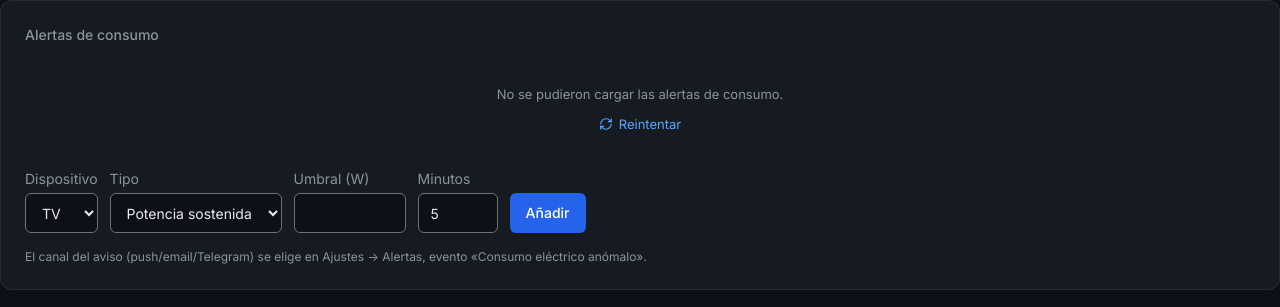
Test: EnergyAlertsCard (US-183) › si falla la lista de alertas lo dice, no la pinta como «sin alertas», y reintenta
This screenshot has width=1280, height=307.
Check: the text "No se pudieron cargar las alertas de consumo." is shown, box [497,85,783,103]
What coordinates should you click on to do the following:
click the button "Reintentar"
I would click on:
 (640, 124)
Its box is [591,111,689,137].
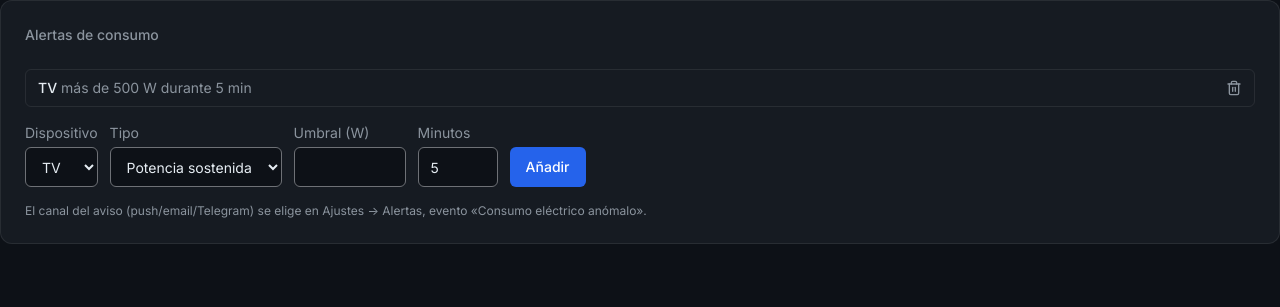
Check: the text "más de 500 W durante 5 min" is shown, box [61,79,252,96]
